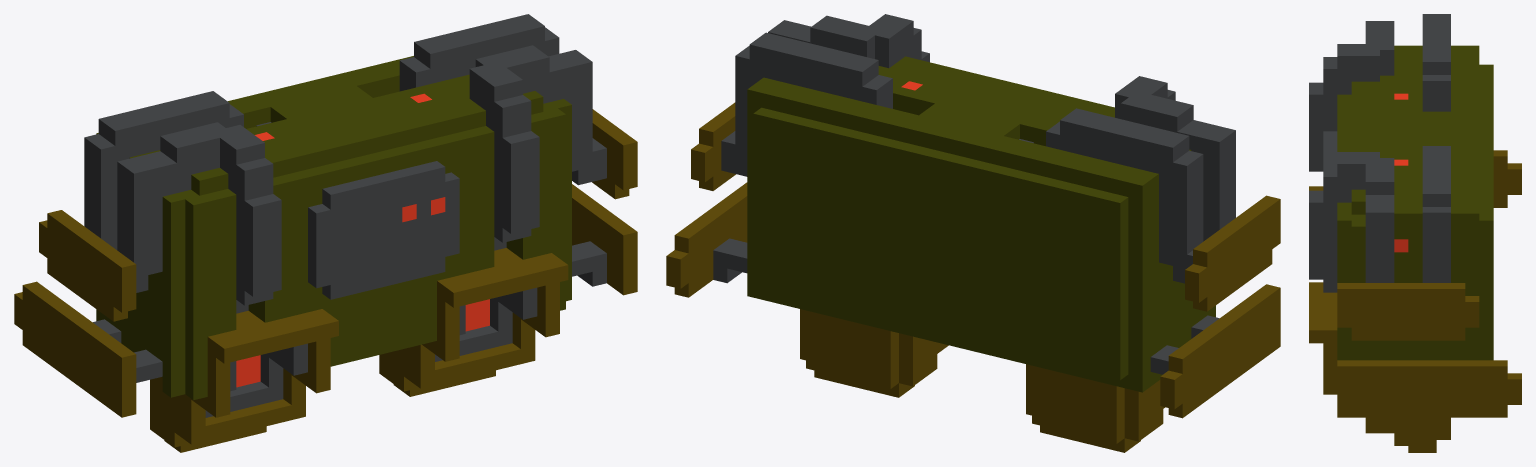
The model's file is Bag10.fbx.
3 renders of one model, left to right at view 1: azimuth 30°, elevation 25°; view 2: azimuth 150°, elevation 25°; view 3: azimuth 270°, elevation 25°, orthographic. The views are drawn at different scales.
Parts seen in each view (by area): view 1: Bag10; view 2: Bag10; view 3: Bag10.
Boxes of the visible parts, x1,y1,x2,y2 form: Bag10: [14, 14, 637, 452]; Bag10: [666, 14, 1280, 452]; Bag10: [1309, 14, 1521, 452].
Size of the model in its own units: 180 by 110 by 75.
